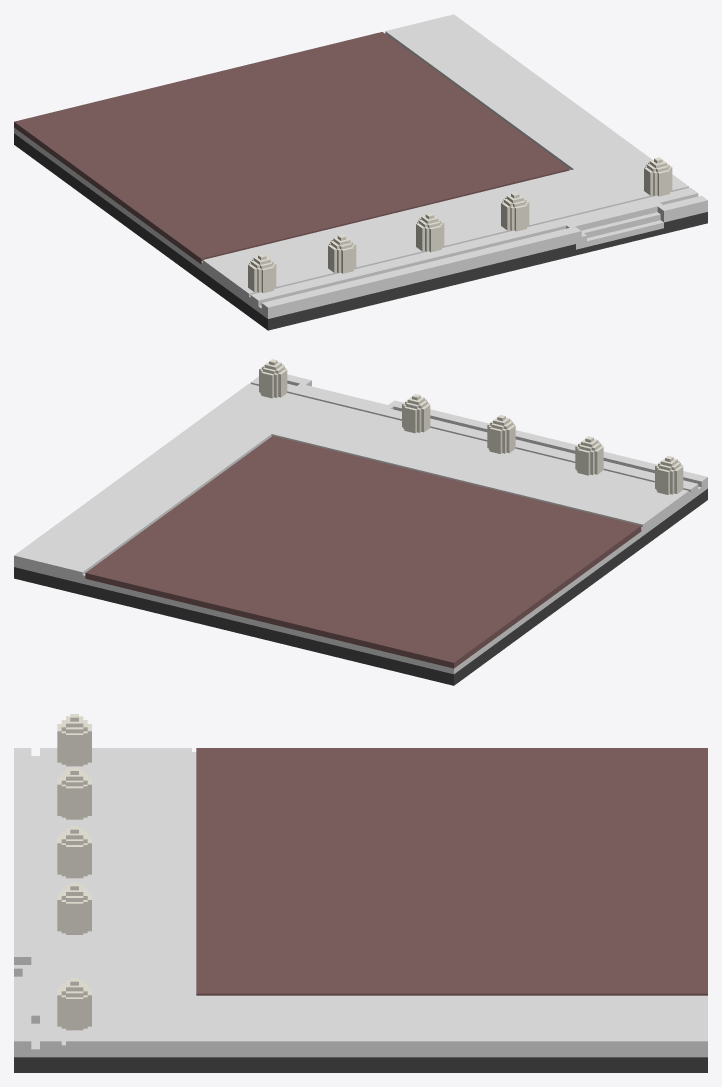
The model's file is pathway castle1.obj.
The picture shows the model from 3 angles, top to bottom: view 1: azimuth 30°, elevation 25°; view 2: azimuth 150°, elevation 25°; view 3: azimuth 270°, elevation 25°; orthographic projection. The views are drawn at different scales.
Bounding box in the file's own units: 16 × 1.9 × 16.
Materials: 1 (1 with a texture image).
